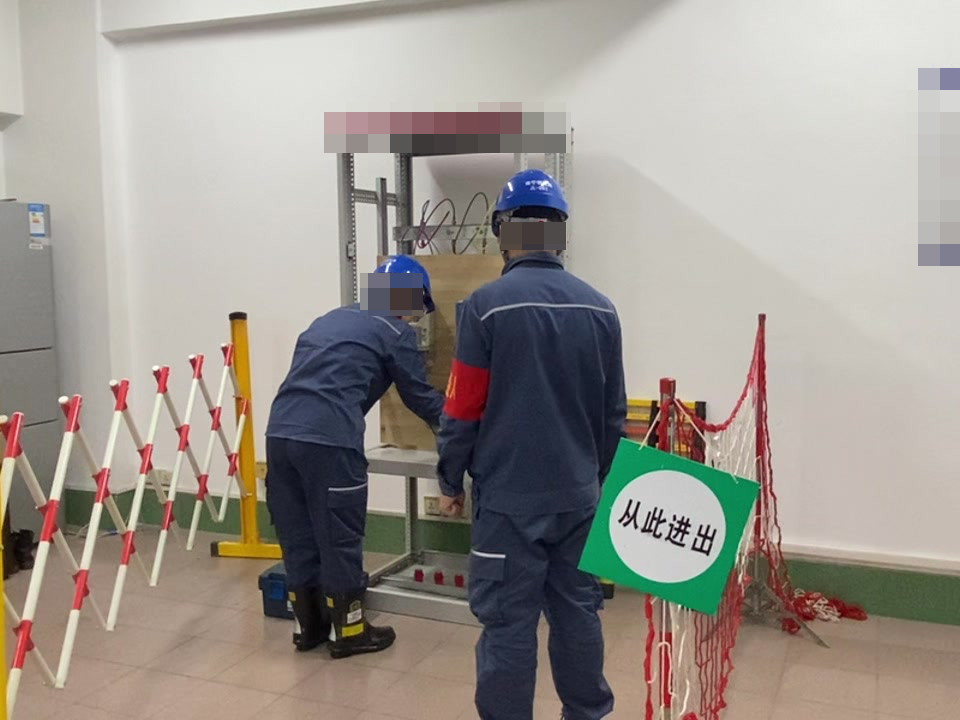badge: (444, 358, 492, 425)
downsuit: (465, 518, 617, 720), (264, 447, 372, 614)
halt: (488, 168, 573, 258), (371, 254, 435, 325)
hand: (434, 484, 468, 522)
inear: (387, 284, 426, 325), (488, 213, 518, 265)
intosign: (573, 437, 761, 616)
person: (440, 165, 634, 720), (262, 252, 437, 653)
shoe: (286, 581, 402, 657)
upsuit: (439, 258, 632, 507), (271, 300, 431, 434)
